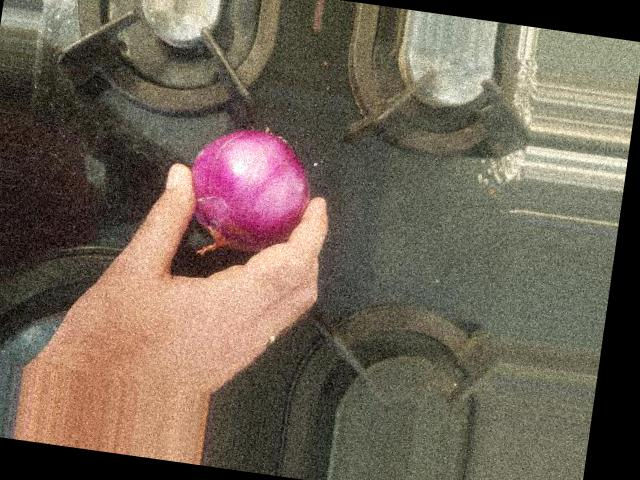onion: (293, 69, 426, 211)
